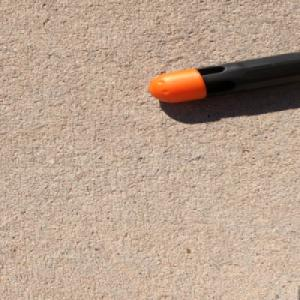PlasticPart: (146, 50, 300, 103)
